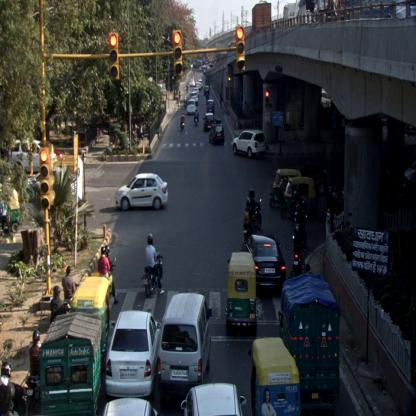car: (158, 290, 211, 386), (105, 309, 160, 398), (242, 232, 288, 294), (114, 173, 168, 211), (180, 385, 246, 415), (232, 130, 268, 158), (208, 124, 225, 144), (204, 114, 215, 130), (206, 98, 216, 115), (187, 98, 195, 116), (190, 93, 198, 105), (189, 78, 195, 89)
motorcycle: (141, 231, 164, 299), (96, 246, 120, 304), (24, 327, 40, 412), (291, 222, 306, 276), (244, 198, 256, 240), (180, 111, 185, 131), (194, 109, 199, 125)
truck: (277, 273, 341, 413), (42, 312, 105, 415)
